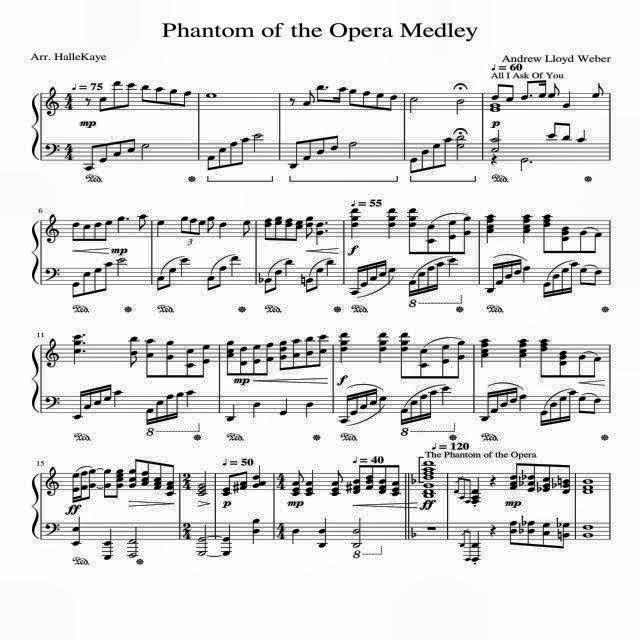Bass-clef: (43, 258, 61, 286), (42, 516, 60, 542), (46, 389, 62, 415), (42, 140, 58, 162)
Bemol: (410, 524, 420, 544), (409, 470, 416, 490), (552, 517, 562, 529), (256, 272, 264, 284), (521, 468, 527, 480), (521, 514, 527, 526), (551, 476, 555, 492), (518, 475, 522, 489), (520, 523, 524, 537), (536, 482, 540, 494)
Diez: (346, 478, 354, 498), (230, 483, 240, 493)
Eighth-note: (422, 214, 438, 253), (406, 208, 418, 256), (542, 212, 554, 256), (164, 332, 176, 376), (79, 144, 97, 172), (145, 337, 157, 379), (454, 338, 466, 379), (400, 329, 410, 378), (165, 458, 175, 507), (129, 454, 139, 502), (128, 333, 140, 372), (540, 334, 550, 378), (224, 338, 236, 374), (439, 341, 449, 383), (558, 344, 570, 378), (418, 340, 428, 380), (542, 119, 560, 141), (304, 210, 316, 242), (290, 334, 302, 366), (68, 472, 80, 504), (250, 338, 260, 376), (332, 471, 344, 502), (110, 80, 122, 110), (142, 456, 150, 500), (156, 458, 164, 502), (294, 472, 306, 501), (508, 462, 518, 496), (576, 228, 590, 252), (266, 333, 274, 375), (238, 218, 254, 238), (448, 216, 456, 256), (184, 344, 194, 376), (320, 330, 328, 370), (116, 466, 124, 506), (216, 146, 228, 172), (464, 214, 472, 253), (133, 212, 147, 234), (353, 466, 362, 500), (562, 217, 570, 255), (240, 137, 250, 167), (275, 213, 285, 243), (239, 339, 247, 376), (308, 334, 316, 371), (220, 476, 232, 500), (302, 88, 314, 112), (262, 215, 274, 239), (280, 336, 288, 372), (380, 464, 388, 500), (507, 518, 517, 546), (100, 144, 112, 166), (592, 355, 604, 377), (127, 80, 137, 106), (202, 155, 218, 171), (105, 262, 113, 294), (403, 159, 421, 173), (548, 81, 560, 102), (291, 146, 301, 170), (536, 82, 548, 102), (562, 120, 572, 144), (229, 142, 239, 166), (68, 221, 80, 241), (102, 220, 114, 240), (177, 214, 187, 238), (104, 467, 110, 507), (366, 465, 374, 495), (545, 460, 551, 500), (491, 83, 504, 101), (565, 459, 571, 497), (442, 138, 450, 166), (124, 138, 138, 154), (526, 516, 534, 544), (542, 518, 550, 546), (389, 90, 399, 112), (286, 213, 294, 240), (89, 468, 95, 504), (508, 84, 518, 105), (594, 228, 602, 254), (83, 271, 91, 297), (94, 266, 102, 292), (80, 469, 86, 503), (528, 462, 534, 496), (430, 146, 440, 166), (337, 86, 347, 106), (217, 266, 227, 286), (96, 96, 108, 112), (330, 138, 342, 154), (184, 86, 196, 102), (364, 85, 372, 109), (376, 86, 384, 110), (68, 280, 80, 296), (580, 266, 588, 290), (203, 342, 209, 374), (578, 354, 586, 378), (392, 466, 398, 498), (465, 478, 471, 510), (198, 215, 206, 238), (458, 530, 468, 548), (264, 275, 272, 297), (578, 393, 586, 415), (240, 471, 248, 493), (316, 141, 328, 155), (296, 212, 302, 240), (166, 269, 178, 283), (564, 520, 570, 548), (306, 142, 314, 162), (421, 152, 431, 168), (154, 84, 164, 100), (82, 222, 90, 242), (204, 274, 214, 290), (274, 270, 282, 290), (316, 268, 324, 288), (594, 270, 604, 286), (168, 86, 176, 105), (349, 89, 357, 108), (208, 214, 216, 233), (466, 529, 470, 567), (316, 85, 324, 103), (521, 81, 529, 99), (116, 141, 124, 159), (94, 222, 102, 240), (155, 276, 165, 290), (191, 214, 197, 236), (142, 82, 148, 102), (455, 476, 461, 494), (307, 278, 313, 294), (594, 396, 600, 412), (461, 476, 464, 504)
Eighth-rest: (80, 95, 94, 108), (286, 96, 298, 108)
Full-note: (204, 89, 216, 103), (582, 476, 596, 484), (582, 524, 594, 532), (423, 481, 433, 489), (584, 532, 592, 540)
Full-rest: (425, 526, 439, 534)
Half-note: (125, 526, 144, 562), (348, 515, 368, 547), (196, 524, 208, 564), (196, 468, 208, 498), (489, 130, 503, 154), (346, 141, 358, 163), (410, 94, 422, 115), (457, 136, 467, 160), (454, 99, 466, 117), (253, 133, 265, 151), (116, 258, 124, 278), (517, 157, 527, 171), (141, 144, 149, 160), (300, 142, 304, 162)
Quarter-note: (316, 515, 336, 553), (344, 210, 364, 242), (220, 522, 236, 562), (514, 336, 530, 368), (73, 516, 87, 552), (376, 326, 388, 366), (252, 467, 266, 497), (484, 211, 496, 245), (520, 212, 532, 246), (338, 328, 349, 364), (480, 338, 492, 370), (70, 335, 82, 365), (306, 470, 318, 498), (388, 208, 397, 244), (105, 530, 114, 566), (473, 530, 483, 562), (276, 398, 290, 420), (592, 82, 604, 106), (316, 210, 324, 246), (184, 388, 196, 412), (518, 388, 530, 412), (575, 126, 589, 146), (446, 258, 458, 280), (252, 518, 262, 544), (441, 385, 452, 407), (156, 218, 166, 242), (230, 257, 242, 277), (325, 260, 337, 280), (304, 398, 314, 422), (472, 476, 480, 504), (563, 88, 573, 110), (522, 263, 532, 285), (290, 527, 300, 549), (180, 258, 190, 278), (286, 260, 294, 284), (389, 264, 397, 288), (228, 403, 236, 425), (116, 216, 124, 236), (218, 220, 226, 240), (114, 390, 122, 410), (254, 402, 262, 422), (378, 395, 386, 413)
Quarter-rest: (488, 520, 498, 540), (486, 474, 500, 488), (488, 154, 500, 166)
Sixteenth-note: (486, 260, 498, 296), (481, 389, 491, 427), (351, 264, 362, 298), (75, 388, 85, 424), (568, 259, 578, 293), (340, 393, 350, 427), (428, 390, 438, 424), (568, 390, 576, 430), (538, 277, 552, 299), (407, 272, 417, 300), (559, 266, 569, 294), (154, 400, 164, 428), (399, 400, 409, 428), (409, 398, 419, 426), (498, 259, 506, 293), (538, 404, 548, 431), (361, 264, 371, 290), (428, 263, 436, 295), (418, 394, 426, 426), (492, 388, 500, 420), (418, 270, 427, 298), (143, 404, 155, 424), (550, 402, 558, 431), (500, 388, 508, 416), (86, 388, 94, 414), (166, 394, 174, 420), (561, 394, 567, 428), (372, 262, 380, 286), (552, 274, 560, 298), (360, 391, 368, 414), (438, 261, 444, 291), (508, 387, 518, 405), (380, 259, 388, 281), (514, 258, 522, 280), (104, 384, 112, 406), (177, 390, 183, 418), (352, 394, 358, 421), (370, 389, 378, 409), (506, 260, 512, 284), (95, 386, 101, 408)
Treble-clef: (40, 85, 62, 119), (44, 332, 60, 374), (44, 214, 60, 246), (48, 465, 58, 503)
